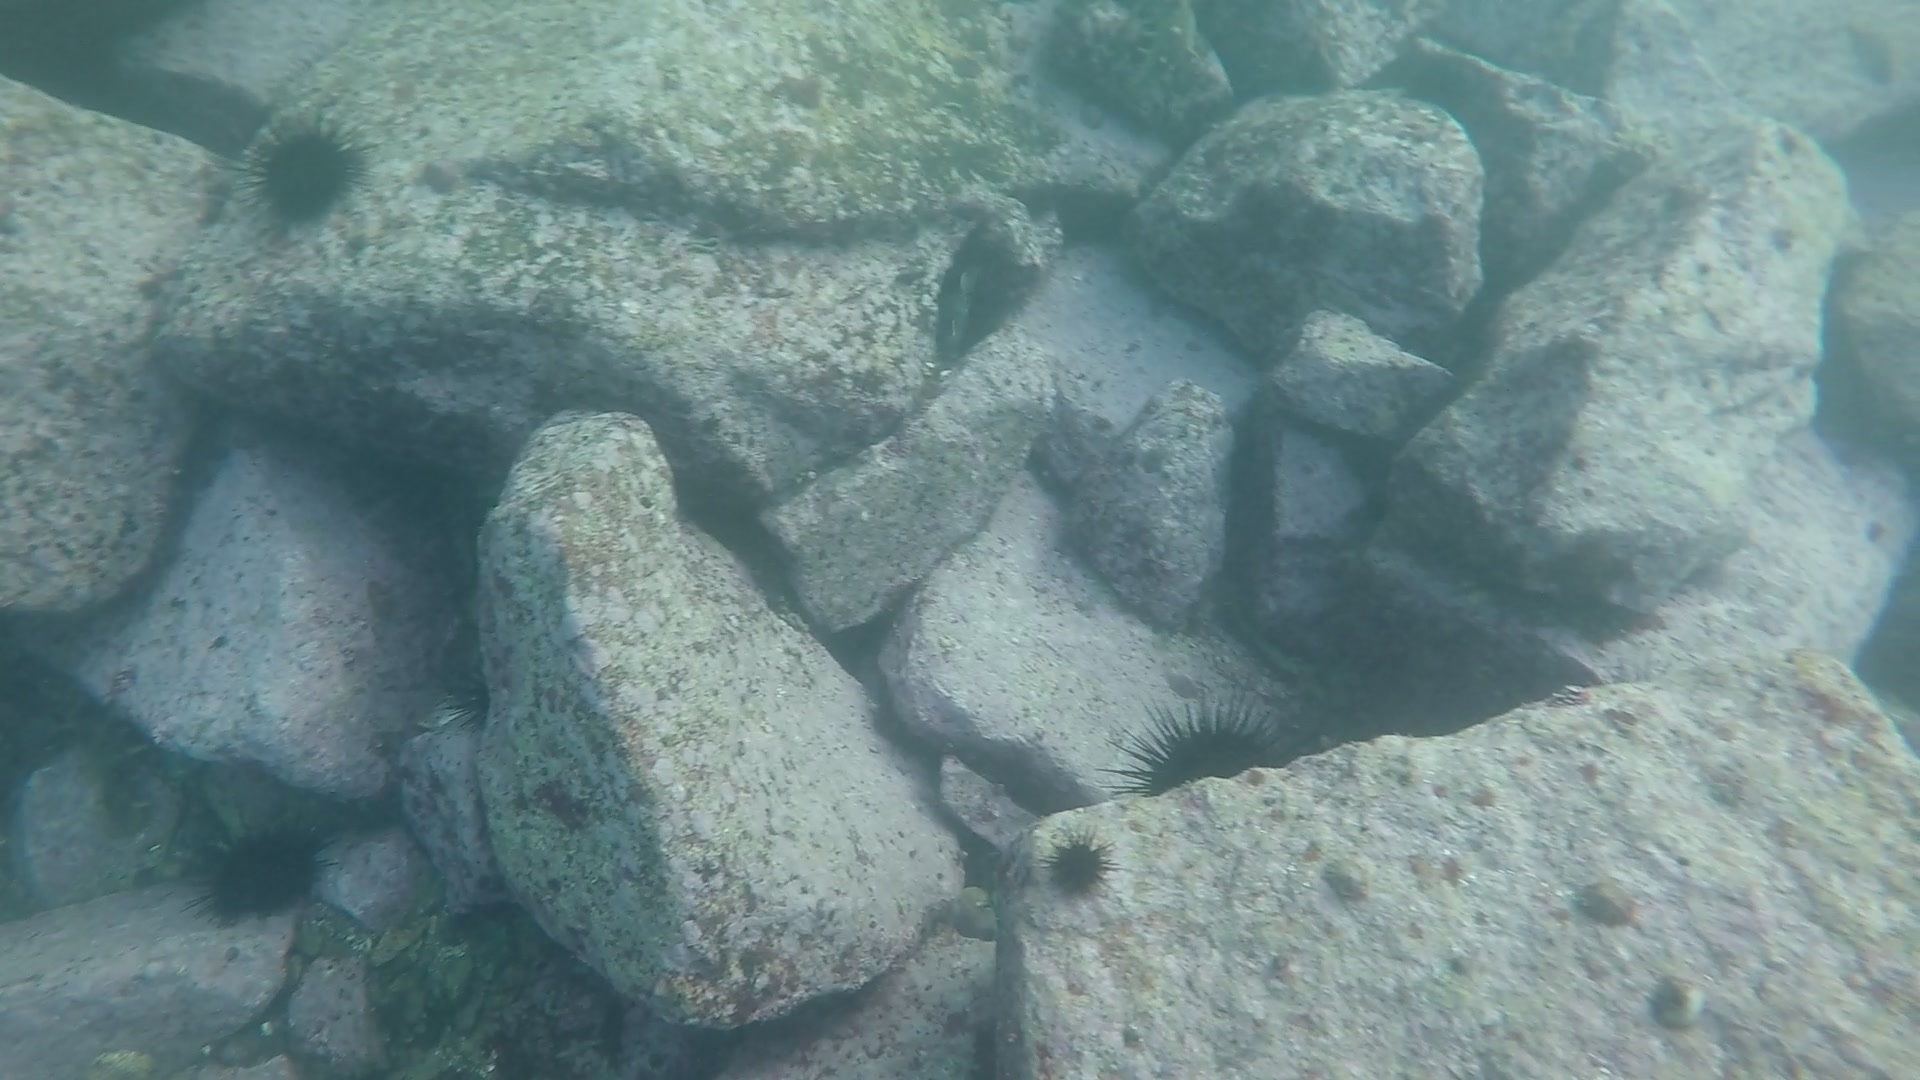echinus: (1112, 696, 1286, 808), (185, 812, 334, 930), (236, 112, 375, 233), (1039, 828, 1120, 906)
